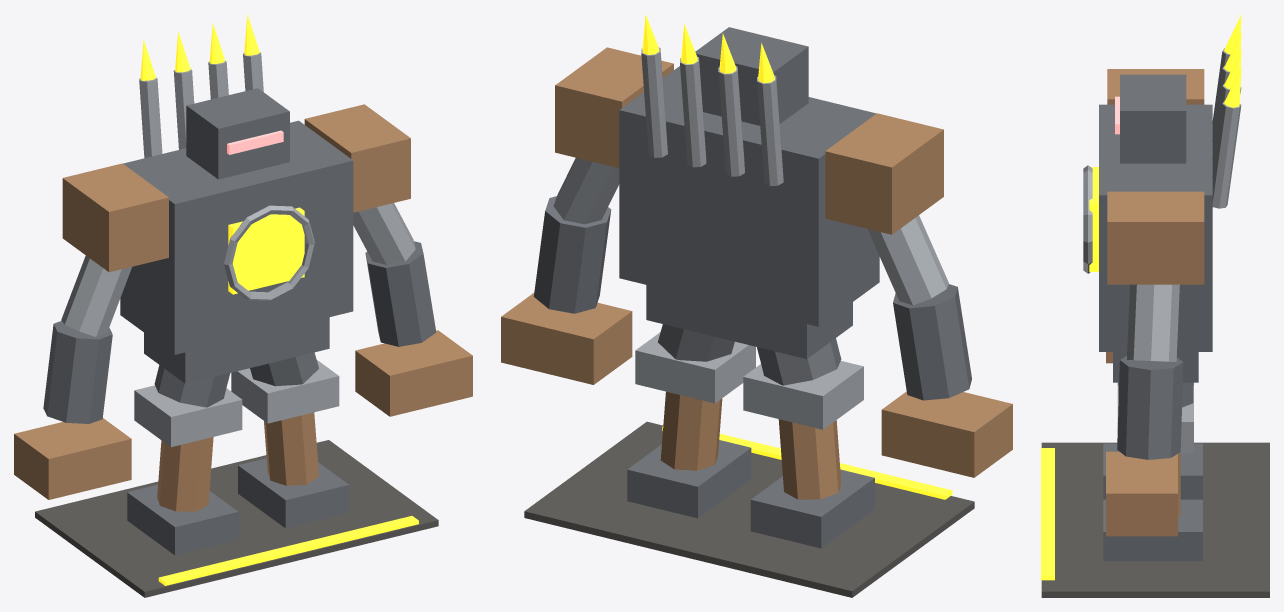
Rendered from iron_warden.glb.
3 views of the same model, side by side, from view 1: azimuth 30°, elevation 25°; view 2: azimuth 150°, elevation 25°; view 3: azimuth 270°, elevation 25° (orthographic). The views are drawn at different scales.
Visible parts, largest first — view 1: warden_barrel_torso_outer_armor, molten_forge_warning_base, warden_left_shoulder_motor, warden_left_unblockable_hammer_head, warden_right_unblockable_hammer_head, warden_head_small_visor_housing, warden_right_shoulder_motor, warden_pelvis_foundry_block, warden_left_forearm_hydraulic_casing, warden_right_forearm_hydraulic_casing, warden_heavy_boot_left, warden_heavy_boot_right (+16 smaller); view 2: warden_barrel_torso_outer_armor, molten_forge_warning_base, warden_left_shoulder_motor, warden_left_unblockable_hammer_head, warden_right_unblockable_hammer_head, warden_right_shoulder_motor, warden_pelvis_foundry_block, warden_left_forearm_hydraulic_casing, warden_head_small_visor_housing, warden_right_forearm_hydraulic_casing, warden_heavy_boot_left, warden_heavy_boot_right (+13 smaller); view 3: molten_forge_warning_base, warden_barrel_torso_outer_armor, warden_right_shoulder_motor, warden_right_forearm_hydraulic_casing, warden_head_small_visor_housing, warden_right_unblockable_hammer_head, warden_right_upper_arm_piston, warden_heavy_boot_right, warden_back_exhaust_pipe_4, molten_forge_lava_channel_front, warden_left_shoulder_motor, warden_heavy_boot_left (+8 smaller).
Boxes of the visible parts, x1=… form: warden_barrel_torso_outer_armor: x1=120, y1=120, x2=353, y2=354; molten_forge_warning_base: x1=35, y1=440, x2=438, y2=597; warden_left_shoulder_motor: x1=62, y1=163, x2=168, y2=272; warden_left_unblockable_hammer_head: x1=14, y1=418, x2=131, y2=499; warden_right_unblockable_hammer_head: x1=355, y1=330, x2=472, y2=416; warden_head_small_visor_housing: x1=186, y1=88, x2=289, y2=179; warden_right_shoulder_motor: x1=304, y1=104, x2=410, y2=212; warden_pelvis_foundry_block: x1=144, y1=317, x2=329, y2=383; warden_left_forearm_hydraulic_casing: x1=43, y1=321, x2=112, y2=423; warden_right_forearm_hydraulic_casing: x1=365, y1=241, x2=436, y2=346; warden_heavy_boot_left: x1=127, y1=484, x2=238, y2=555; warden_heavy_boot_right: x1=238, y1=458, x2=349, y2=528; warden_barrel_torso_outer_armor: x1=619, y1=66, x2=879, y2=326; molten_forge_warning_base: x1=524, y1=421, x2=974, y2=597; warden_left_shoulder_motor: x1=825, y1=113, x2=943, y2=234; warden_left_unblockable_hammer_head: x1=881, y1=391, x2=1012, y2=477; warden_right_unblockable_hammer_head: x1=501, y1=293, x2=632, y2=384; warden_right_shoulder_motor: x1=555, y1=47, x2=673, y2=167; warden_pelvis_foundry_block: x1=646, y1=285, x2=852, y2=358; warden_left_forearm_hydraulic_casing: x1=893, y1=284, x2=971, y2=400; warden_head_small_visor_housing: x1=695, y1=27, x2=808, y2=125; warden_right_forearm_hydraulic_casing: x1=534, y1=196, x2=611, y2=313; warden_heavy_boot_left: x1=750, y1=469, x2=874, y2=548; warden_heavy_boot_right: x1=627, y1=440, x2=751, y2=518; molten_forge_warning_base: x1=1041, y1=442, x2=1269, y2=597; warden_barrel_torso_outer_armor: x1=1099, y1=104, x2=1212, y2=351; warden_right_shoulder_motor: x1=1107, y1=191, x2=1204, y2=284; warden_right_forearm_hydraulic_casing: x1=1117, y1=356, x2=1183, y2=459; warden_head_small_visor_housing: x1=1120, y1=74, x2=1186, y2=163; warden_right_unblockable_hammer_head: x1=1106, y1=451, x2=1177, y2=536; warden_right_upper_arm_piston: x1=1127, y1=284, x2=1179, y2=361; warden_heavy_boot_right: x1=1103, y1=499, x2=1202, y2=561; warden_back_exhaust_pipe_4: x1=1212, y1=100, x2=1241, y2=208; molten_forge_lava_channel_front: x1=1041, y1=448, x2=1054, y2=580; warden_left_shoulder_motor: x1=1107, y1=69, x2=1204, y2=104; warden_heavy_boot_left: x1=1103, y1=443, x2=1202, y2=499.
Bounding box in the file's own units: 3.68 × 3.85 × 1.65.
